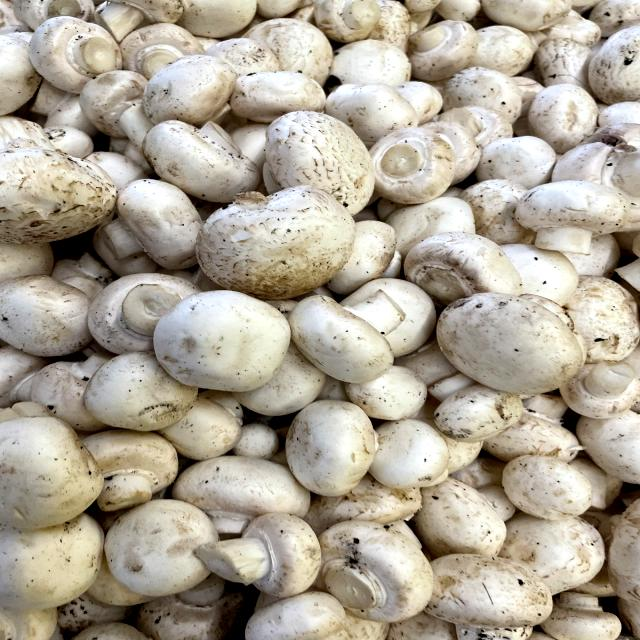mushroom: (433, 275, 596, 402), (132, 284, 304, 399), (283, 271, 421, 384), (306, 508, 438, 626), (193, 504, 327, 600), (507, 176, 633, 262), (357, 119, 463, 203), (24, 15, 127, 95), (394, 14, 498, 90)
